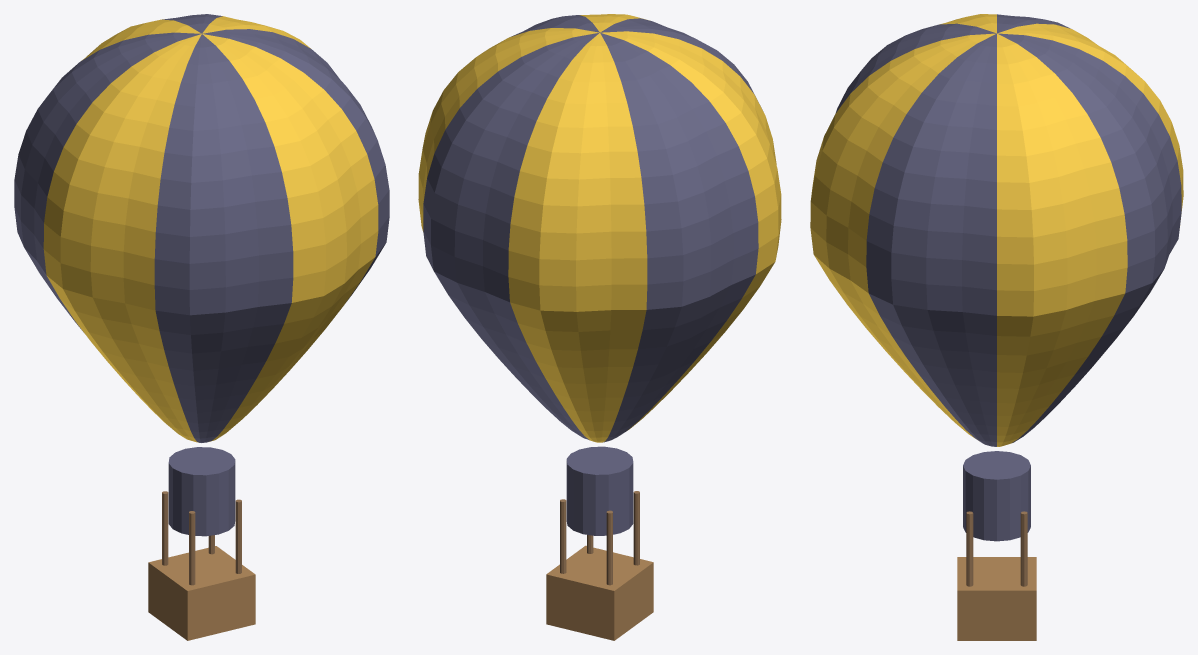
File: balloon_original.glb
The picture shows the model from 3 angles, left to right: view 1: azimuth 30°, elevation 25°; view 2: azimuth 150°, elevation 25°; view 3: azimuth 270°, elevation 25°; orthographic projection.
Visible parts, largest first — view 1: Balloon_Envelope, Balloon_Basket, Balloon_Throat; view 2: Balloon_Envelope, Balloon_Basket, Balloon_Throat, Balloon_Rope_0, Balloon_Rope_2, Balloon_Rope_3; view 3: Balloon_Envelope, Balloon_Basket, Balloon_Throat, Balloon_Rope_0, Balloon_Rope_1.
Boxes of the visible parts, x1,y1,x2,y2 form: Balloon_Envelope: (14,14,389,442); Balloon_Basket: (148,546,255,640); Balloon_Throat: (168,447,235,536); Balloon_Envelope: (418,14,781,442); Balloon_Basket: (546,545,653,640); Balloon_Throat: (566,446,633,535); Balloon_Rope_0: (560,499,566,573); Balloon_Rope_2: (606,510,612,585); Balloon_Rope_3: (633,491,639,565); Balloon_Envelope: (810,14,1183,446); Balloon_Basket: (957,557,1036,640); Balloon_Throat: (963,451,1030,541); Balloon_Rope_0: (1020,511,1027,586); Balloon_Rope_1: (966,511,973,586).
Size of the model in its own units: 1.64 by 2.87 by 1.64.
